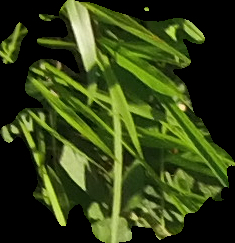grass: (1, 3, 234, 242)
